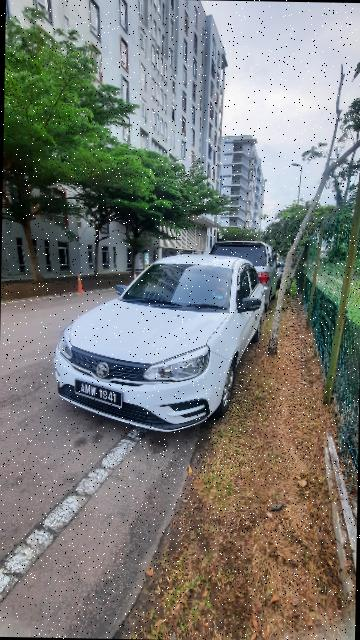License_Plate: (68, 375, 126, 415)
car: (51, 246, 278, 442)
